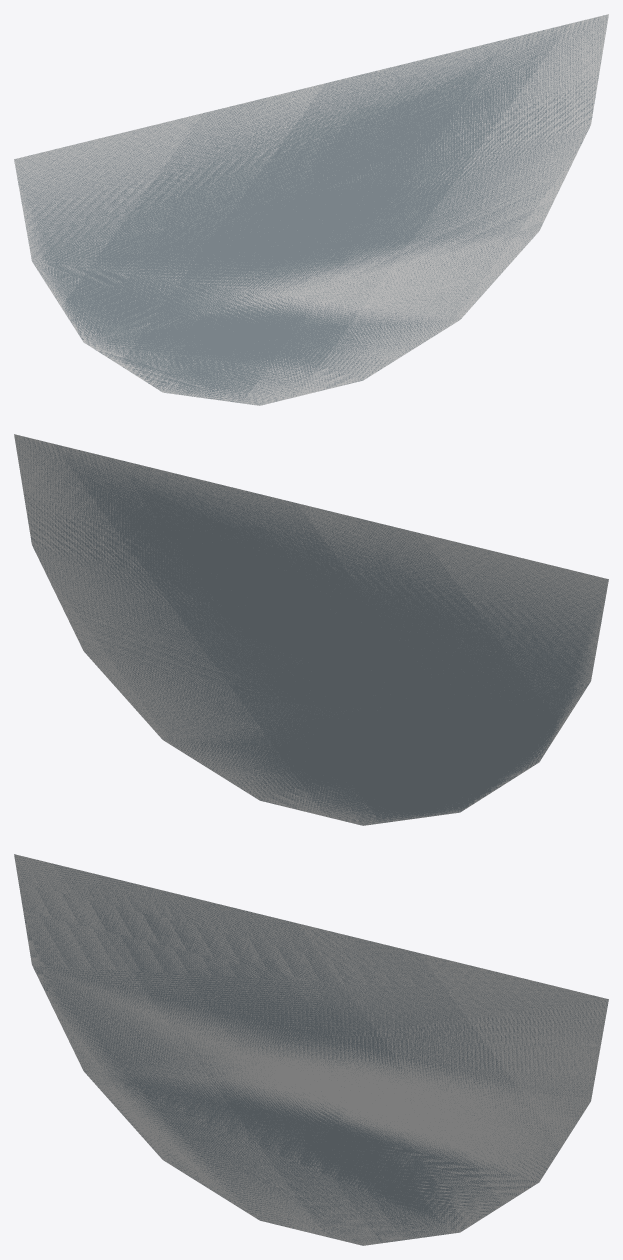
The model's file is Hemi_round.obj.
The picture shows the model from 3 angles, top to bottom: view 1: azimuth 30°, elevation 25°; view 2: azimuth 150°, elevation 25°; view 3: azimuth 330°, elevation 25°; orthographic projection.
Parts seen in each view (by area): view 1: Mesh1 Model; view 2: Mesh1 Model; view 3: Mesh1 Model.
Part boxes in pixels (x1,y1,x2,y2): Mesh1 Model: (14, 14, 608, 405); Mesh1 Model: (14, 434, 608, 825); Mesh1 Model: (14, 854, 608, 1245).
Size of the model in its own units: 2.7 by 1.33 by 0.
